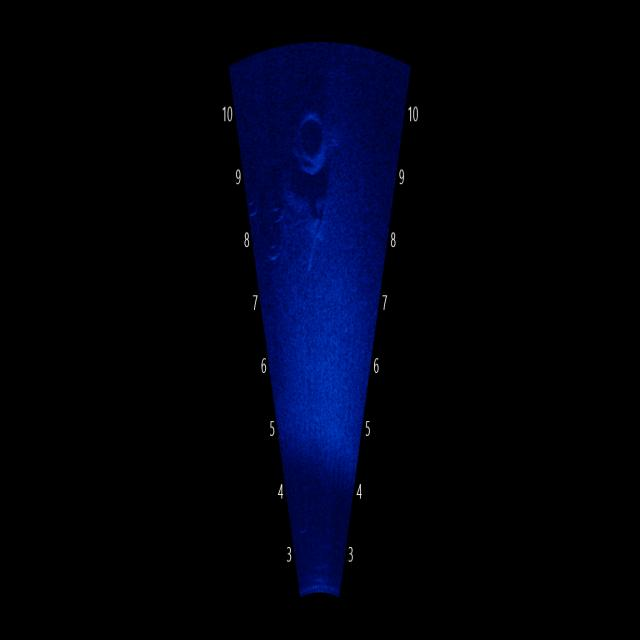circle: (286, 94, 342, 180), (259, 216, 283, 265)
